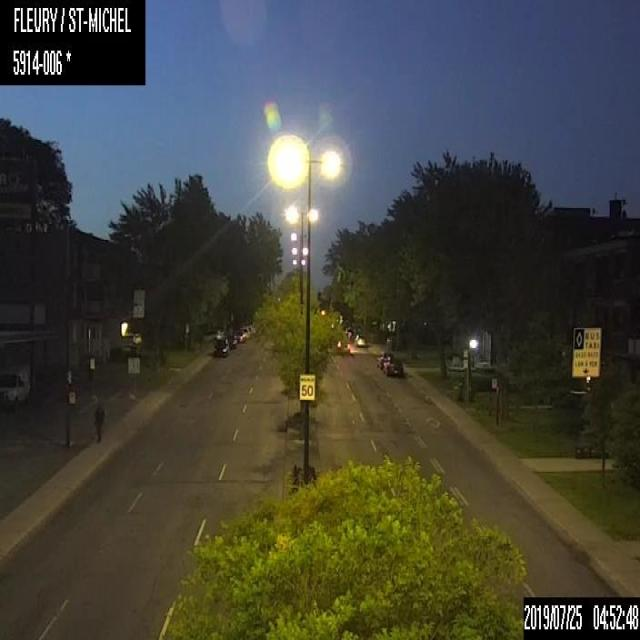pedestrian: (92, 401, 102, 444)
vehicle: (0, 360, 29, 407), (212, 335, 228, 356), (384, 360, 404, 376), (375, 351, 392, 367), (353, 334, 369, 348), (232, 329, 245, 342)
